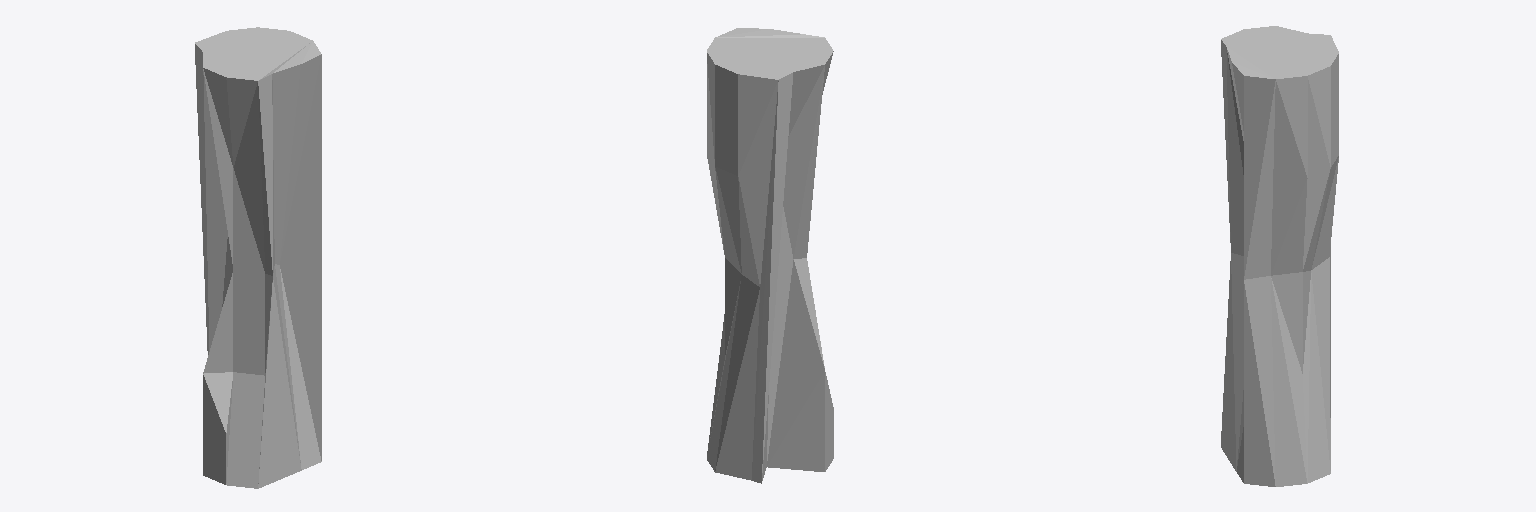
Rendered from PylonDamaged.obj.
The picture shows the model from 3 angles: view 1: azimuth 30°, elevation 25°; view 2: azimuth 150°, elevation 25°; view 3: azimuth 270°, elevation 25°; orthographic projection.
Parts seen in each view (by area): view 1: group[number redacted]; view 2: group[number redacted]; view 3: group[number redacted].
Part boxes in pixels (left/top/right/bottom): group[number redacted]: left=195, top=27, right=321, bottom=488; group[number redacted]: left=707, top=28, right=833, bottom=483; group[number redacted]: left=1221, top=26, right=1338, bottom=486.
Bounding box in the file's own units: 0.13 × 0.4613 × 0.1213.